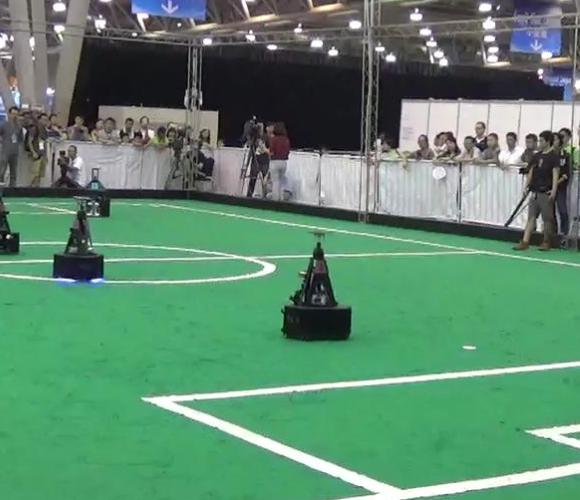robot: (276, 221, 355, 343), (48, 190, 109, 287)
